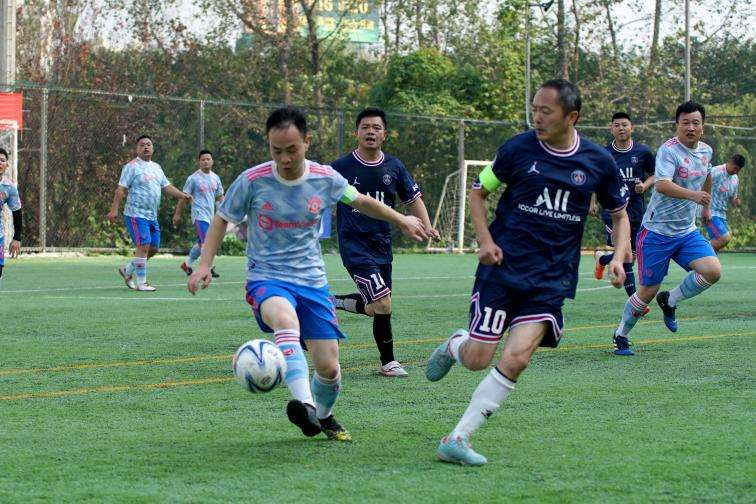football: (233, 339, 286, 394)
